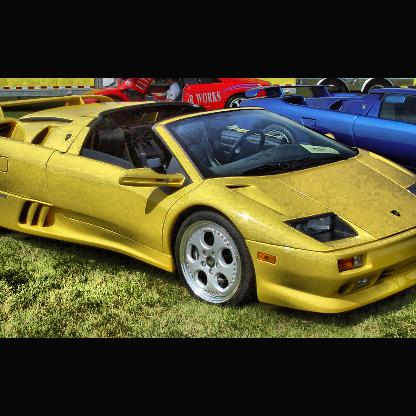Lamborghini Diablo Coupe 2001: (1, 95, 416, 321)
